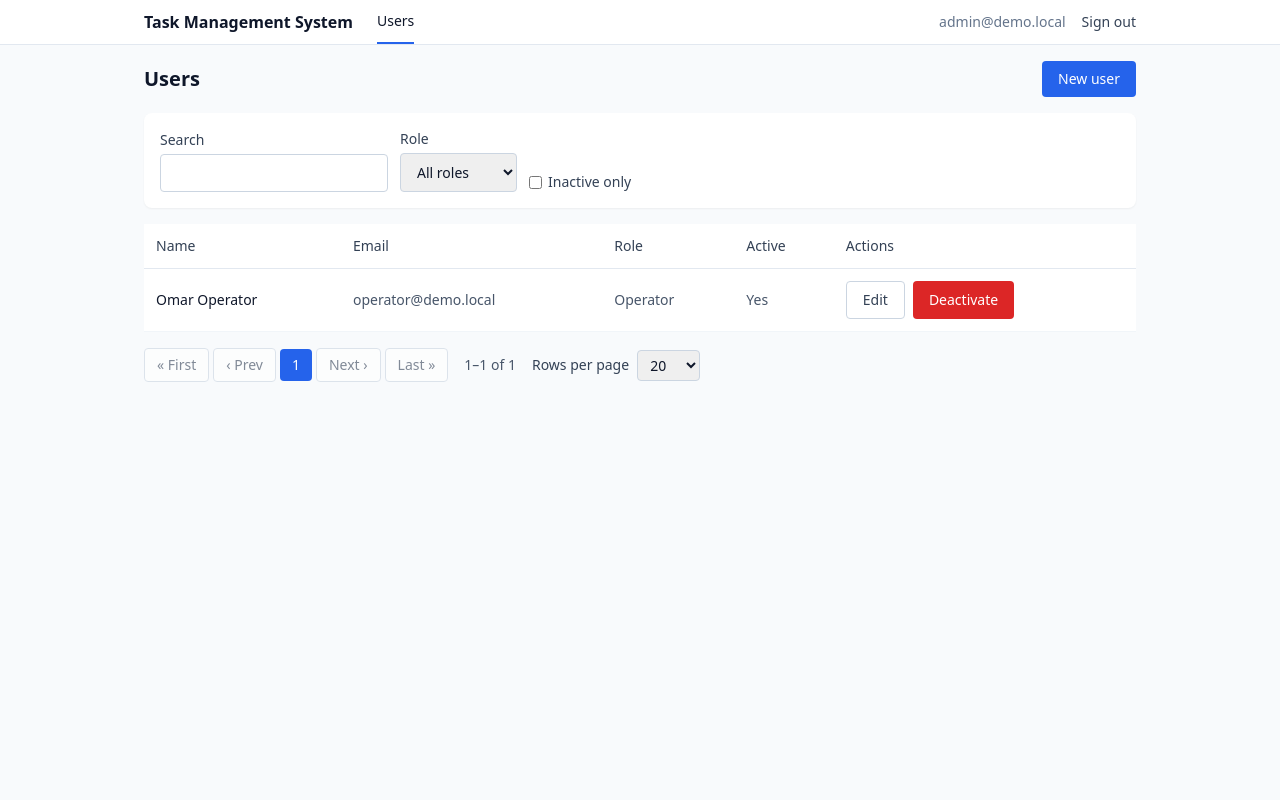
UserListPage › deactivates a user once confirmed and refreshes the list
Click the button with aria-label "deactivate operator@demo.local" at (964, 300), box [913,281,1014,319]
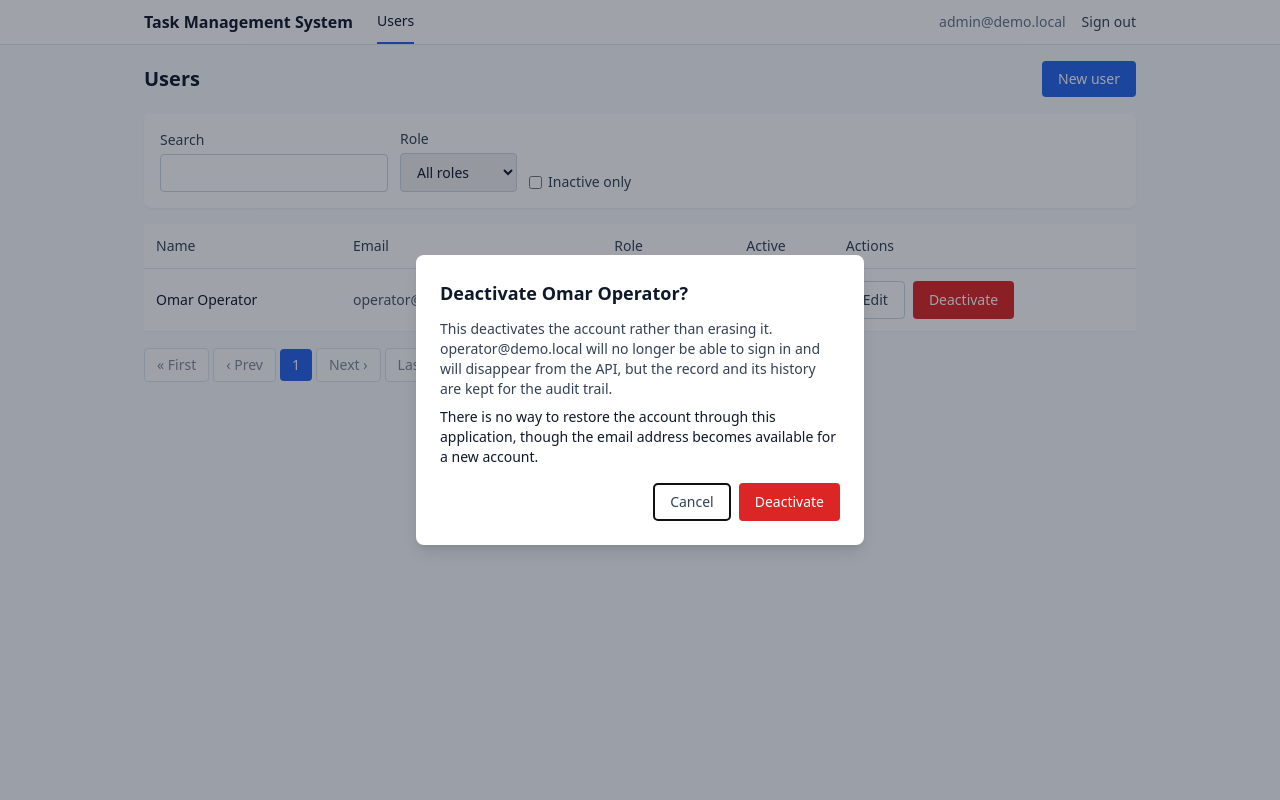
Click the button "Deactivate" at (789, 502), box [739,483,840,521]
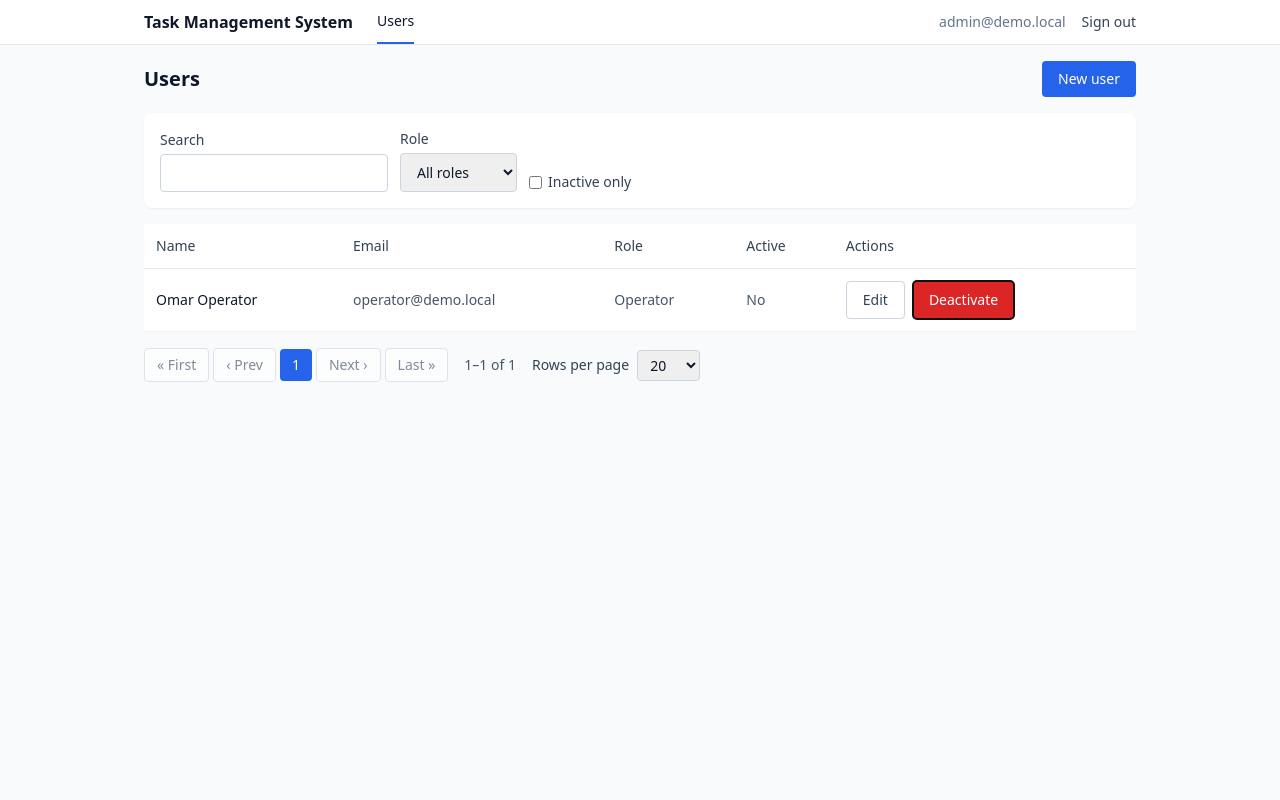
Result: the dialog is gone
